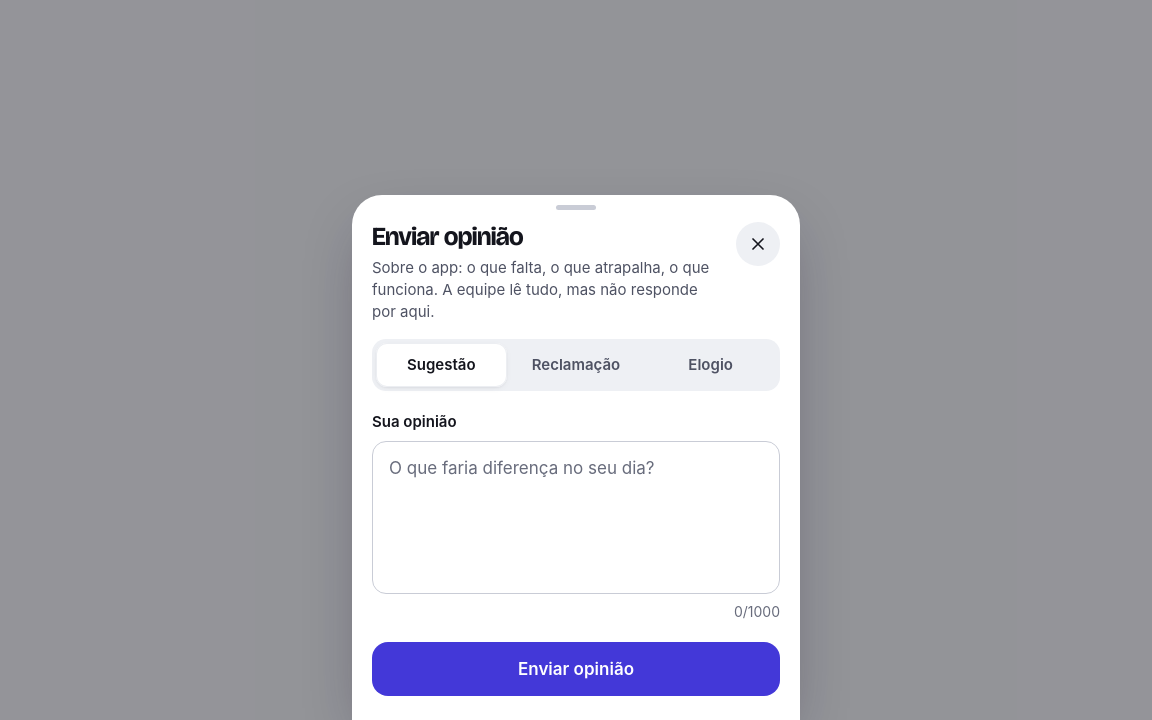
Test case: FeedbackSheet, as a person uses it › what the API refuses is said in the sheet, which stays open
Click the text box labelled "Sua opinião" at x=576, y=517, box [389, 456, 763, 579]
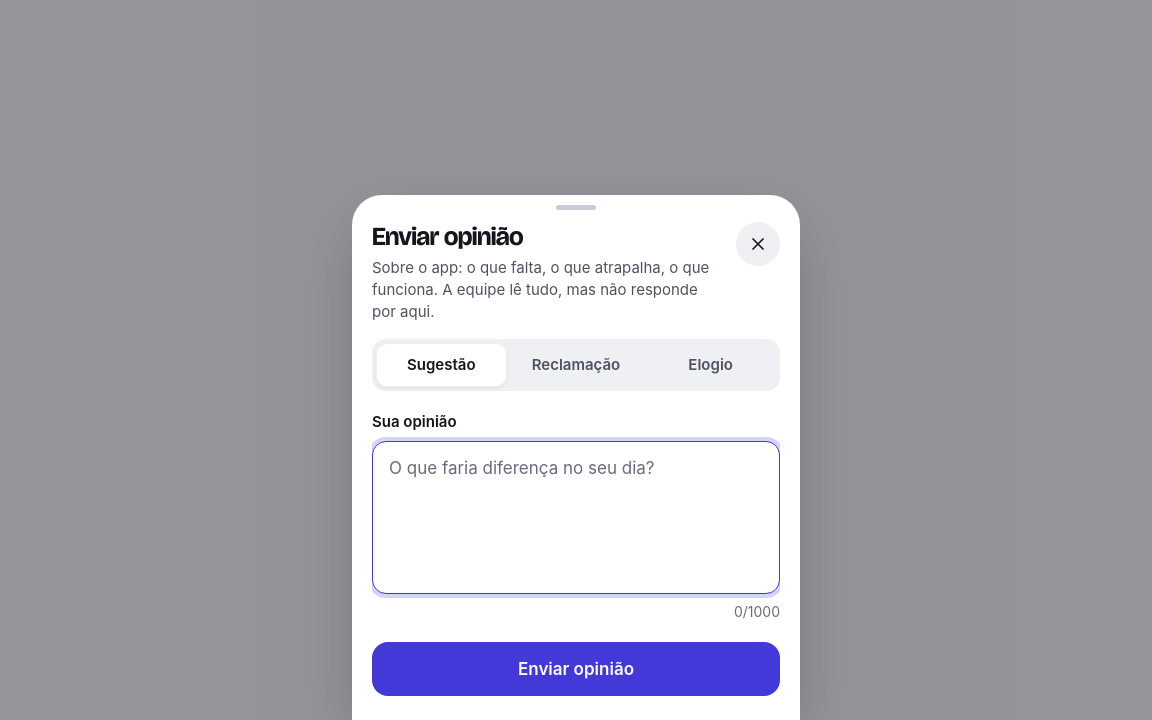
Type keys "Mais uma."
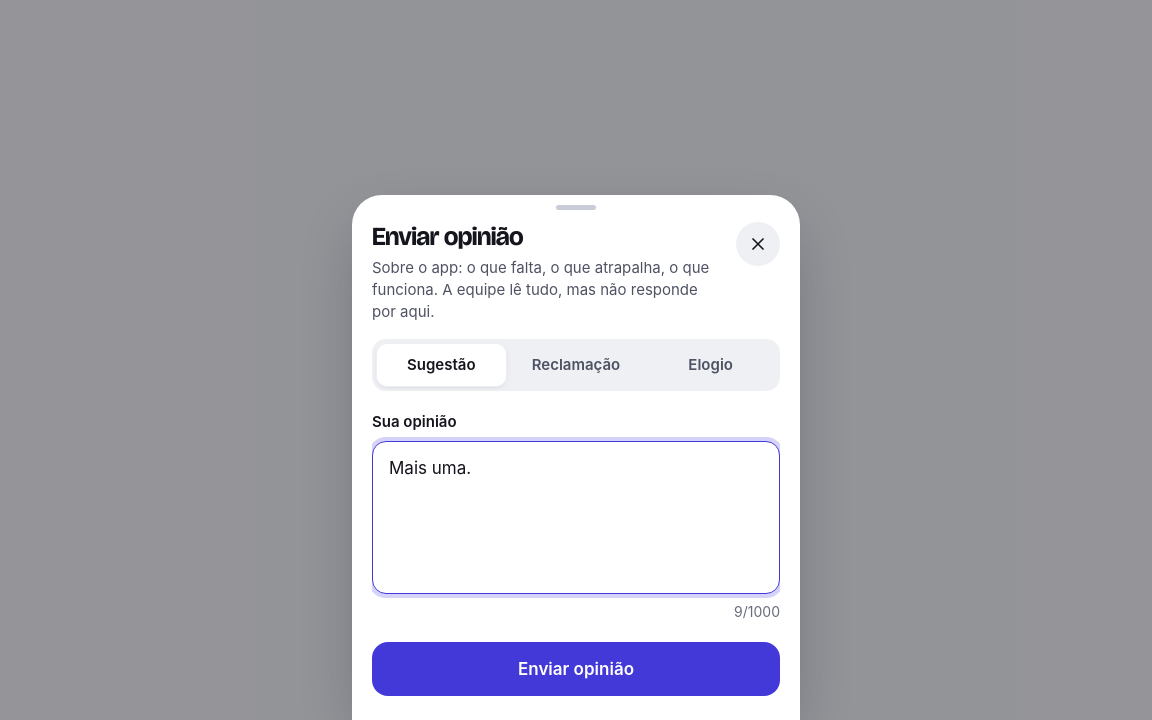
Click the button "Enviar opinião" at x=576, y=669, box [372, 642, 780, 696]
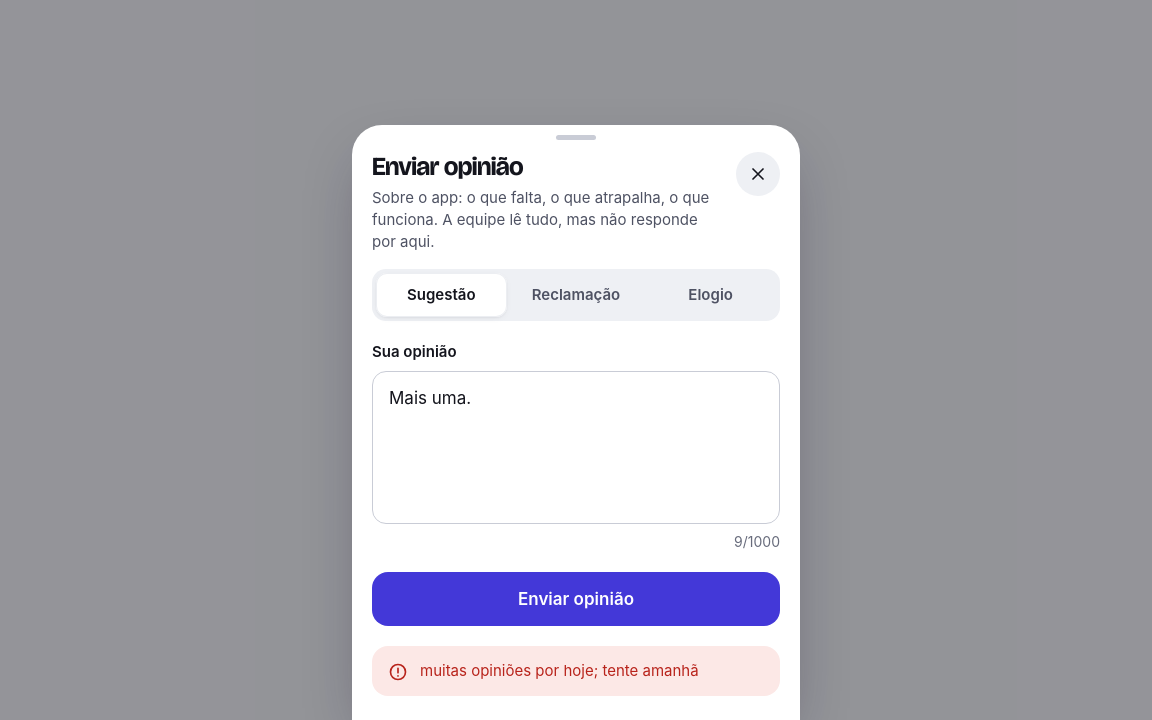
Now the text "muitas opiniões por hoje; tente amanhã" is shown, box [420, 661, 699, 680]
